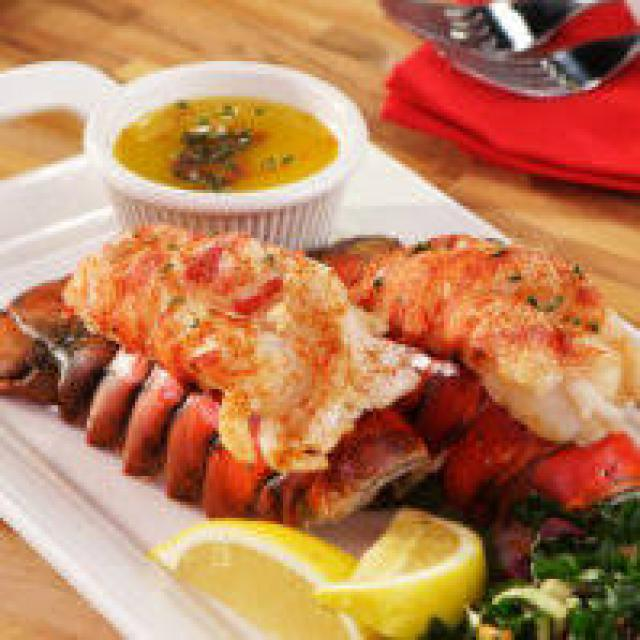Lemon: (151, 513, 335, 640), (334, 500, 486, 632)
Lobster Tail: (0, 232, 364, 508), (400, 227, 640, 520)
